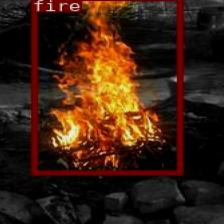fire: (31, 0, 181, 174)
